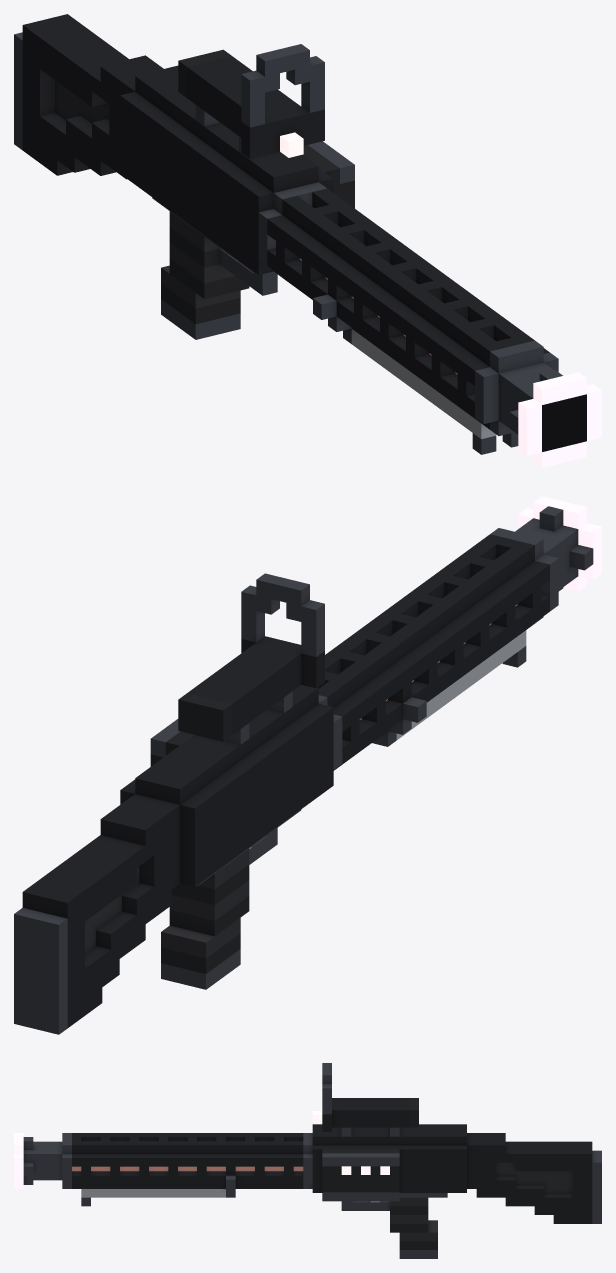
File: imp_heavy.glb
3 renders of one model, top to bottom at view 1: azimuth 30°, elevation 25°; view 2: azimuth 150°, elevation 25°; view 3: azimuth 270°, elevation 25°, orthographic. The views are drawn at different scales.
Visible parts, largest first — view 1: imp_heavy_body; view 2: imp_heavy_body; view 3: imp_heavy_body.
Part boxes in pixels (x1,y1,x2,y2): imp_heavy_body: [14, 14, 601, 467]; imp_heavy_body: [14, 496, 601, 1034]; imp_heavy_body: [14, 1063, 601, 1258].
Size of the model in its own units: 0.3125 by 0.8203 by 2.38.
1 material, 1 textured.
